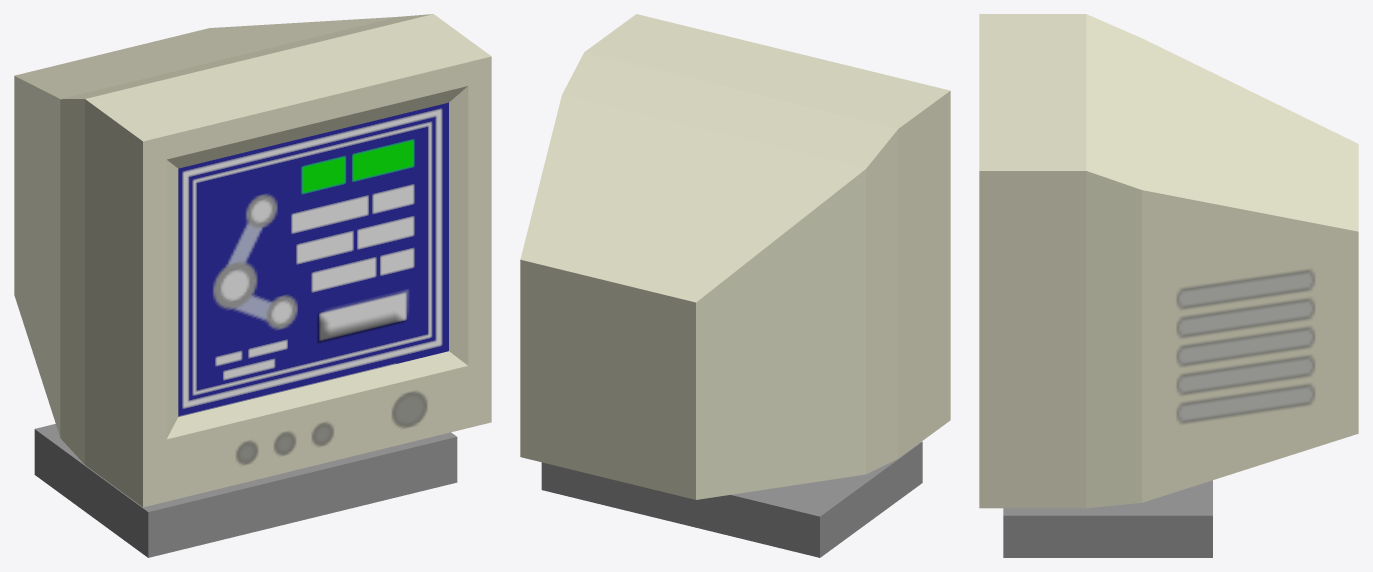
The model's file is Compter Monitor Active.fbx.
3 views of the same model, side by side, from view 1: azimuth 30°, elevation 25°; view 2: azimuth 150°, elevation 25°; view 3: azimuth 270°, elevation 25° (orthographic). The views are drawn at different scales.
Visible parts, largest first — view 1: Compter Monitor Active; view 2: Compter Monitor Active; view 3: Compter Monitor Active.
Boxes of the visible parts, left/top/right/bottom form: Compter Monitor Active: left=14, top=14, right=491, bottom=557; Compter Monitor Active: left=520, top=14, right=950, bottom=557; Compter Monitor Active: left=979, top=14, right=1358, bottom=557.
Bounding box in the file's own units: 65.65 × 77.44 × 67.07.
